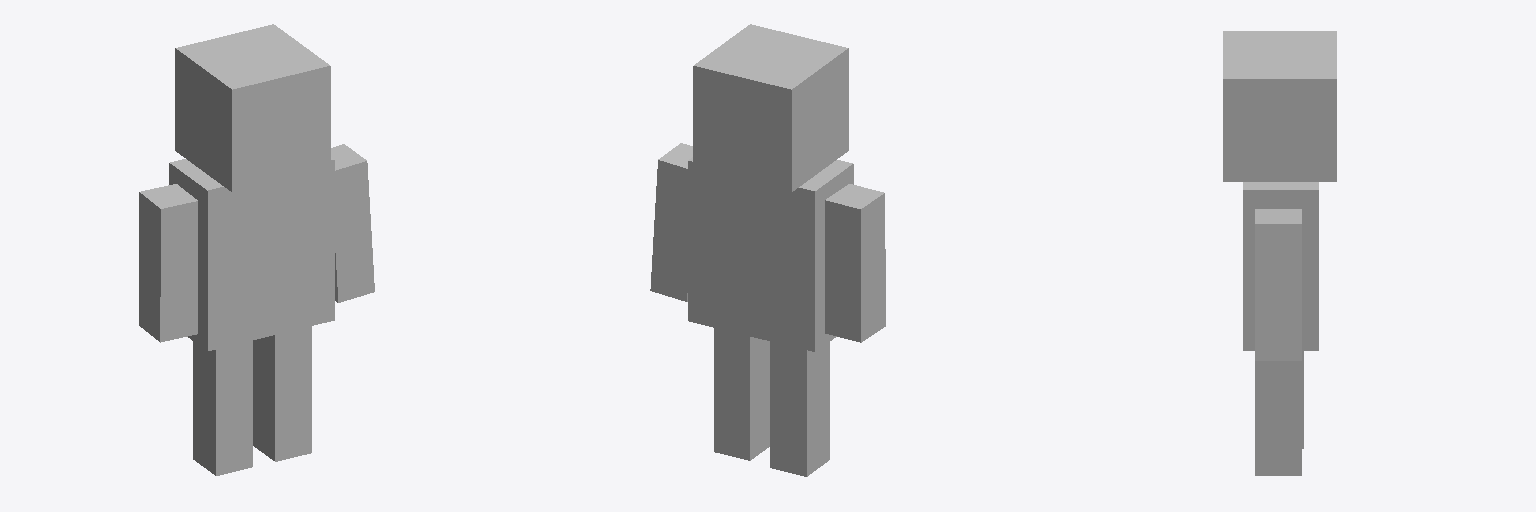
The model's file is humanblock-bone2-walk_0.obj.
The picture shows the model from 3 angles: view 1: azimuth 30°, elevation 25°; view 2: azimuth 150°, elevation 25°; view 3: azimuth 270°, elevation 25°; orthographic projection.
Visible parts, largest first — view 1: Cube.001_Cube.005, Cube_Cube.004, Cube.008_Cube.002, Cube.004_Cube.008, Cube.005_Cube.009, Cube.002_Cube.006; view 2: Cube.001_Cube.005, Cube_Cube.004, Cube.008_Cube.002, Cube.004_Cube.008, Cube.005_Cube.009, Cube.002_Cube.006; view 3: Cube_Cube.004, Cube.002_Cube.006, Cube.001_Cube.005, Cube.005_Cube.009.
Boxes of the visible parts, box(x1,y1,x2,y2) form: Cube.001_Cube.005: box(169, 157, 334, 351); Cube_Cube.004: box(175, 24, 330, 192); Cube.008_Cube.002: box(139, 184, 197, 342); Cube.004_Cube.008: box(193, 341, 252, 475); Cube.005_Cube.009: box(253, 326, 311, 461); Cube.002_Cube.006: box(331, 144, 374, 302); Cube.001_Cube.005: box(688, 157, 853, 351); Cube_Cube.004: box(693, 24, 848, 192); Cube.008_Cube.002: box(825, 184, 885, 342); Cube.004_Cube.008: box(770, 341, 829, 476); Cube.005_Cube.009: box(714, 328, 769, 460); Cube.002_Cube.006: box(650, 143, 692, 301); Cube_Cube.004: box(1223, 31, 1336, 181); Cube.002_Cube.006: box(1255, 209, 1301, 360); Cube.001_Cube.005: box(1243, 182, 1318, 350); Cube.005_Cube.009: box(1255, 361, 1301, 475).
Bounding box in the file's own units: 3.35 × 6 × 1.55.